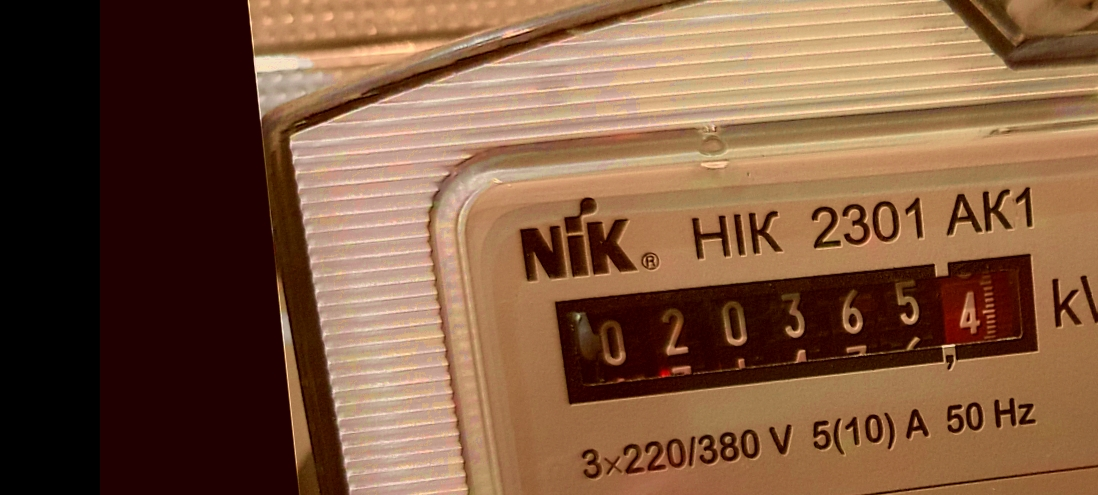0: (595, 313, 634, 371), (720, 297, 754, 350)
2: (658, 304, 694, 358)
3: (778, 289, 812, 341)
4: (955, 286, 984, 337)
5: (895, 278, 926, 327)
6: (837, 284, 868, 337)
screen: (541, 233, 1060, 422)
